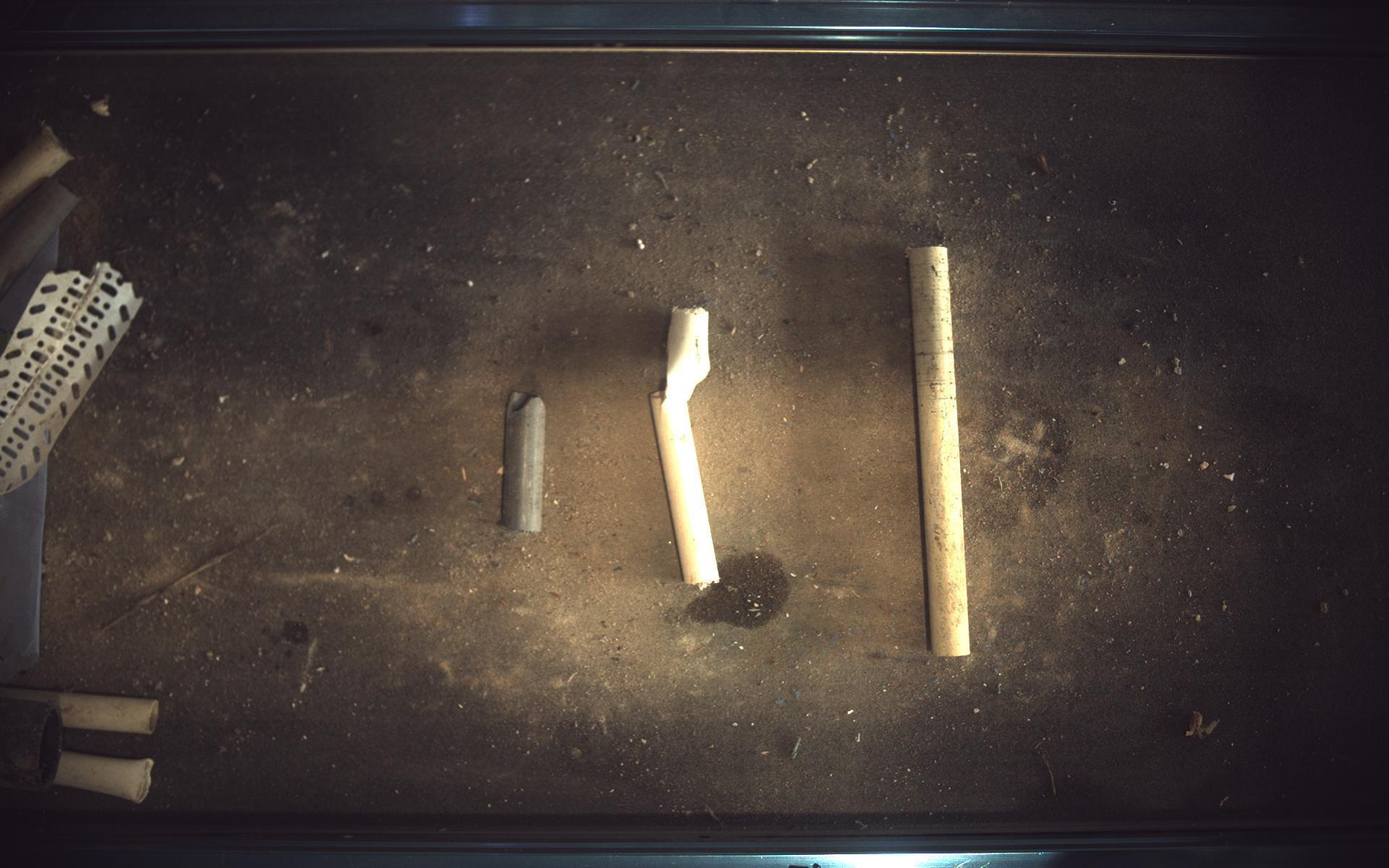pipes: (909, 245, 972, 658), (651, 307, 721, 587), (502, 392, 546, 532)
